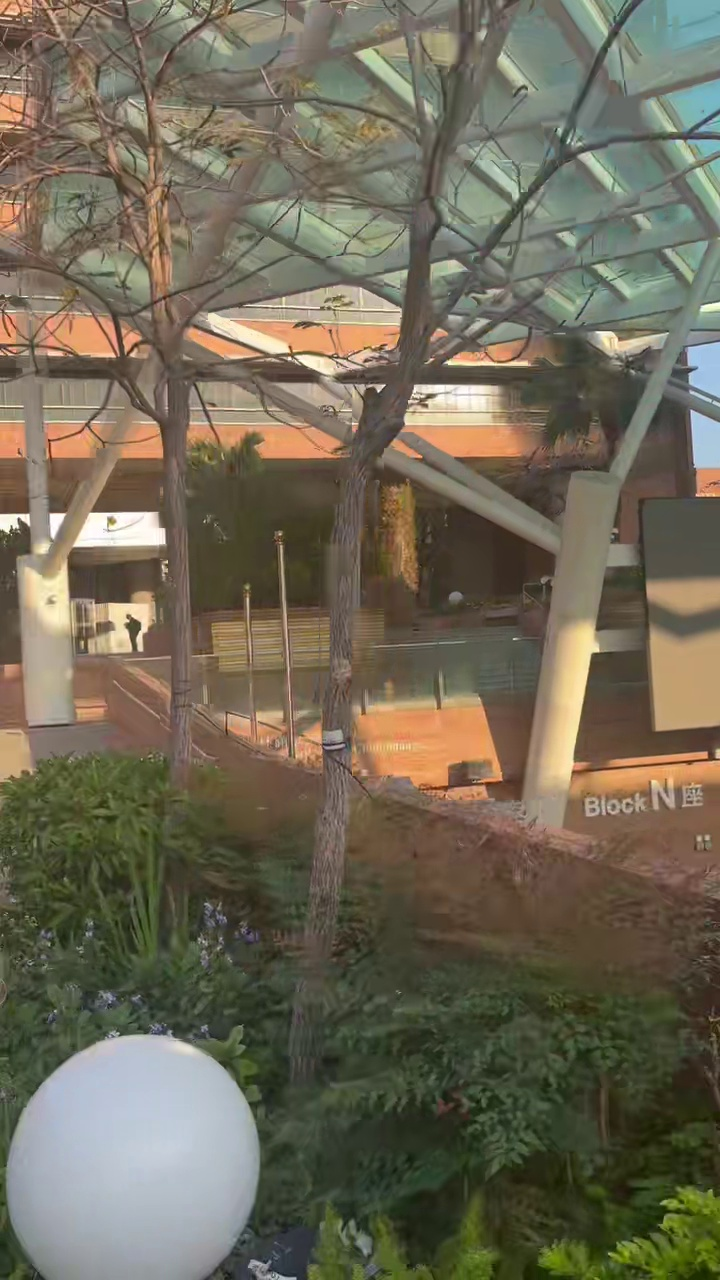Tabebuia chrysantha: (290, 0, 642, 1079)
